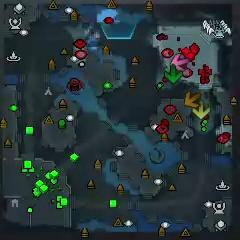x1: (172, 53, 188, 71)
x2: (193, 101, 210, 120)
x4: (164, 64, 182, 84)
x5: (184, 92, 202, 108)
